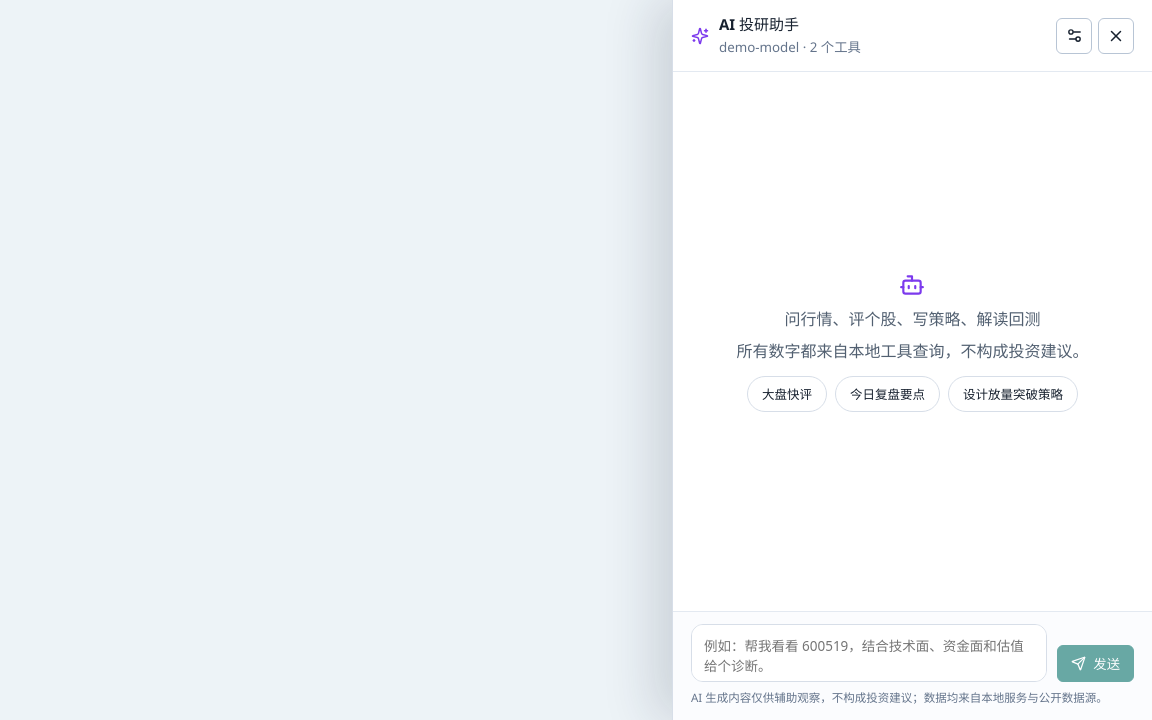
Test: AiAssistantPanel › maps stream failures to a friendly error banner
Type "行情如何" into the text box with placeholder "例如：帮我看看 600519，结合技术面、资金面和估值给个诊断。" at (869, 653), box [691, 624, 1047, 682]
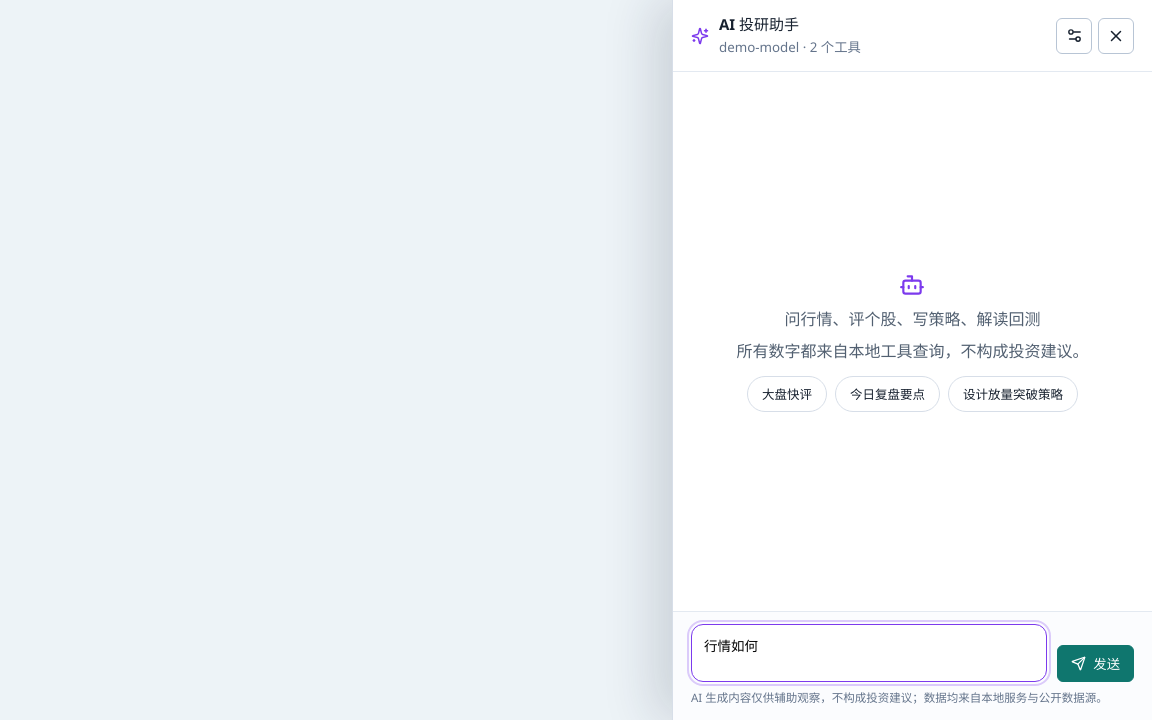
Click the button "发送" at (1096, 664), box [1057, 645, 1134, 682]
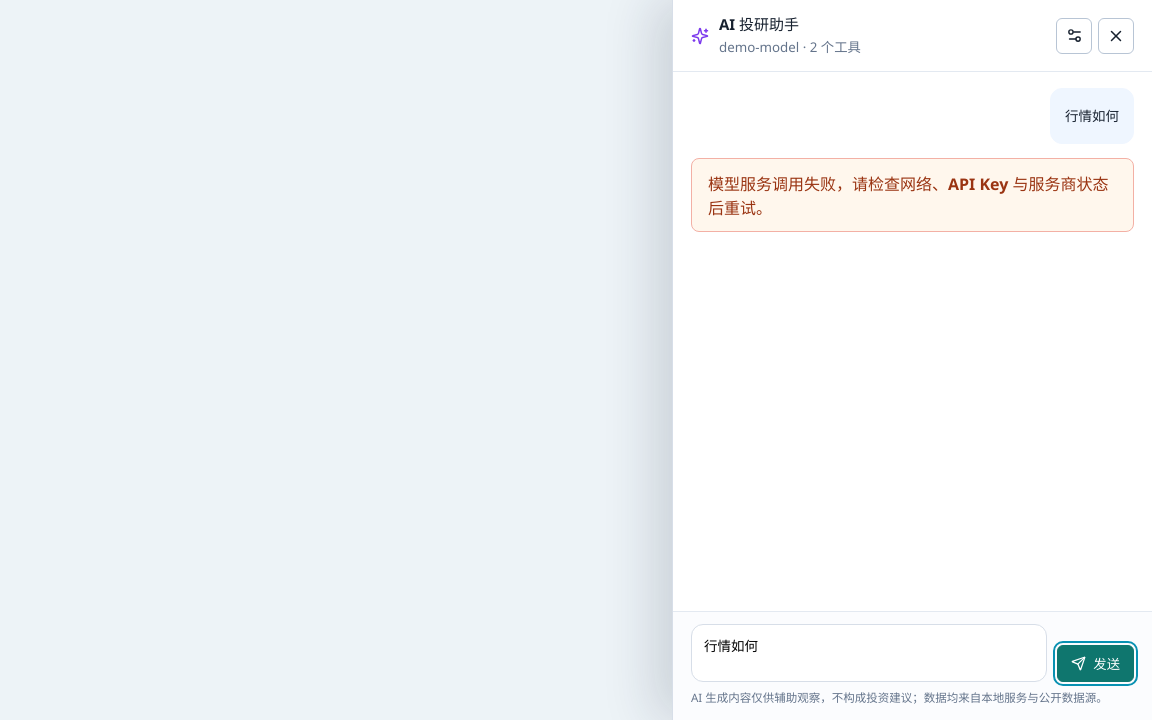
Now the message shows "模型服务调用失败", box [708, 173, 1108, 219]
